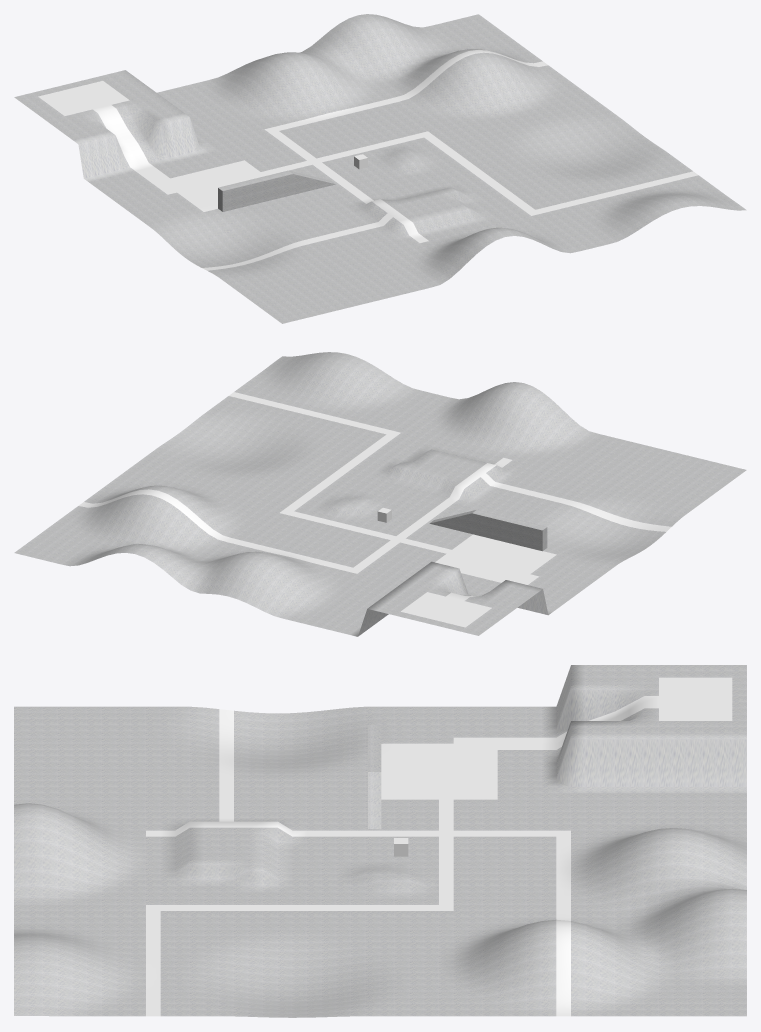
Rendered from SnowStageMap.gltf.
The picture shows the model from 3 angles, top to bottom: view 1: azimuth 30°, elevation 25°; view 2: azimuth 150°, elevation 25°; view 3: azimuth 270°, elevation 25°; orthographic projection. The views are drawn at different scales.
Visible parts, largest first — view 1: StageMap, Wall; view 2: StageMap, Wall; view 3: StageMap, Wall.
Part boxes in pixels (<box>): StageMap: <box>14,14,746,323</box>; Wall: <box>218,170,335,211</box>; StageMap: <box>14,352,746,636</box>; Wall: <box>429,510,547,551</box>; StageMap: <box>14,665,746,1017</box>; Wall: <box>368,725,381,828</box>.
Bounding box in the file's own units: 60 × 5.65 × 60.
Materials: 3 (2 with a texture image).
